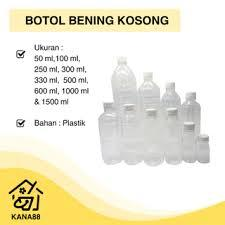BIODEGRADABLE: (141, 111, 168, 169)
